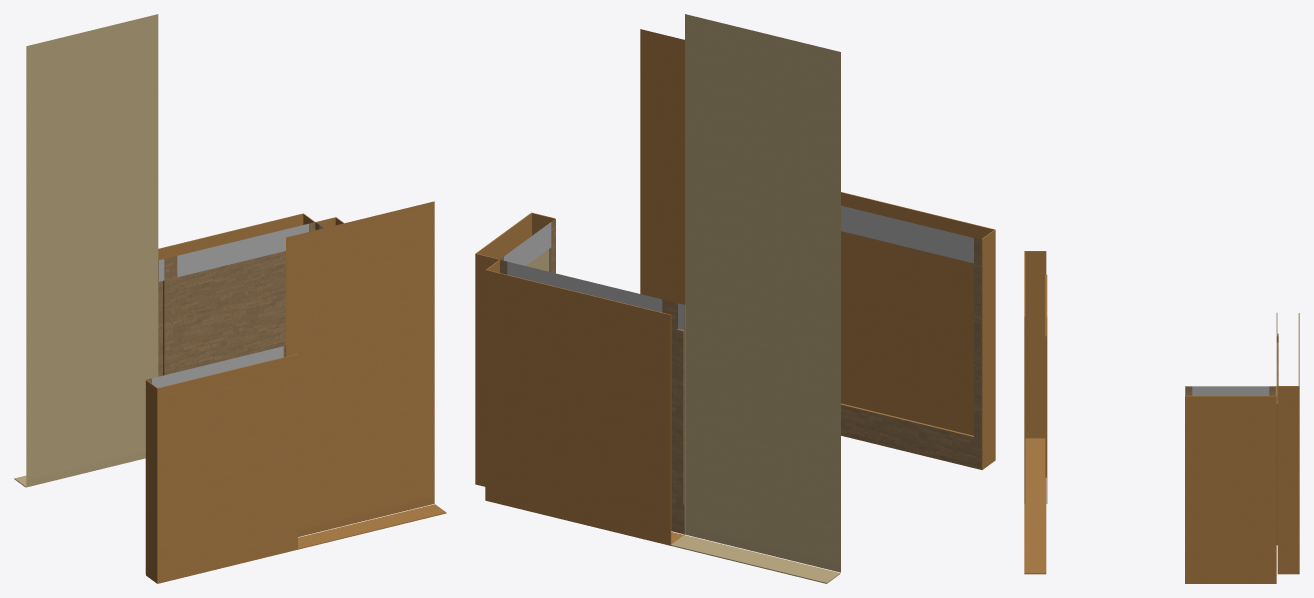
The model's file is unit-link-south-east.glb.
3 renders of one model, left to right at view 1: azimuth 30°, elevation 25°; view 2: azimuth 150°, elevation 25°; view 3: azimuth 270°, elevation 25°, orthographic. The views are drawn at different scales.
Parts seen in each view (by area): view 1: bz06_faded_ochre-cast, bz06_pale_lime-cast, bz06_service_stone-cast, ph_bz04_stone_trim_sandstone-cast; view 2: bz06_faded_ochre-cast, bz06_pale_lime-cast, bz06_service_stone-cast, ph_bz04_stone_trim_sandstone-cast; view 3: bz06_faded_ochre-cast, ph_bz04_stone_trim_sandstone-cast, bz06_service_stone-cast.
Boxes of the visible parts, x1,y1,x2,y2 form: bz06_faded_ochre-cast: [146, 201, 446, 583]; bz06_pale_lime-cast: [14, 14, 158, 487]; bz06_service_stone-cast: [145, 222, 319, 573]; ph_bz04_stone_trim_sandstone-cast: [152, 223, 323, 387]; bz06_faded_ochre-cast: [475, 29, 995, 545]; bz06_pale_lime-cast: [526, 14, 840, 583]; bz06_service_stone-cast: [500, 218, 981, 534]; ph_bz04_stone_trim_sandstone-cast: [504, 205, 973, 330]; bz06_faded_ochre-cast: [1024, 251, 1299, 583]; ph_bz04_stone_trim_sandstone-cast: [1192, 386, 1269, 395]; bz06_service_stone-cast: [1185, 333, 1278, 545].
Size of the model in its own units: 7.5 by 10.22 by 6.
4 materials, 3 textured.
